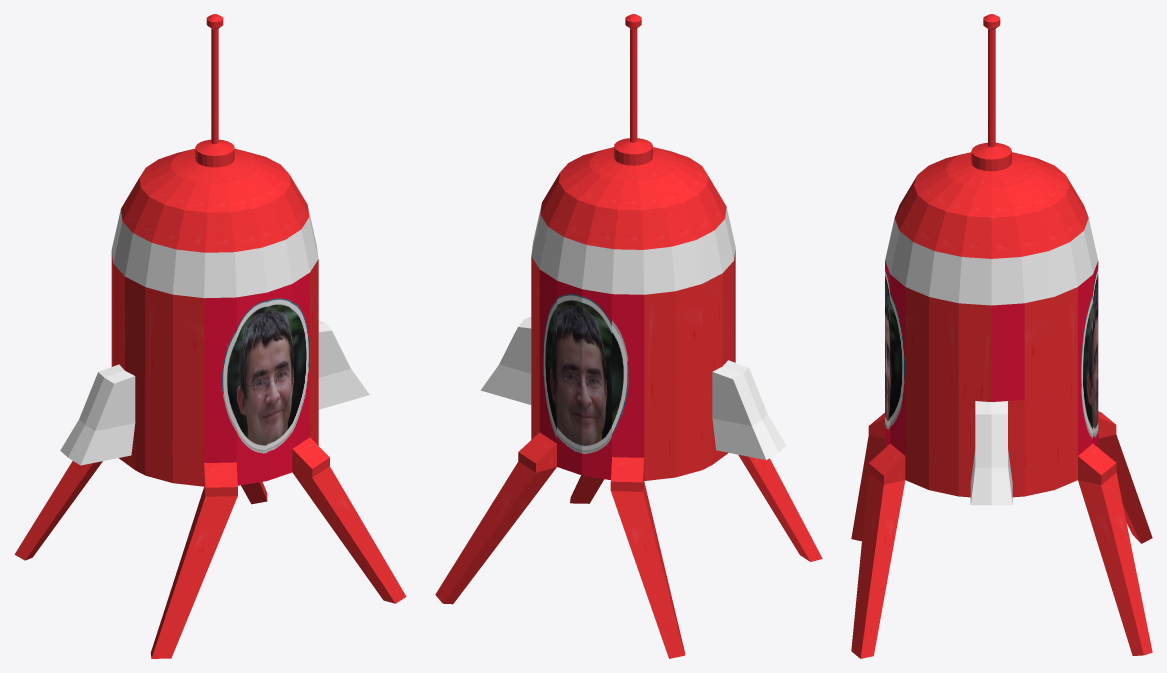
Rendered from Lander.obj.
3 renders of one model, left to right at view 1: azimuth 30°, elevation 25°; view 2: azimuth 150°, elevation 25°; view 3: azimuth 270°, elevation 25°, orthographic. The views are drawn at different scales.
Parts seen in each view (by area): view 1: Cylinder; view 2: Cylinder; view 3: Cylinder.
Part boxes in pixels (left/top/right/bottom): Cylinder: left=14, top=14, right=406, bottom=658; Cylinder: left=435, top=14, right=822, bottom=658; Cylinder: left=851, top=14, right=1152, bottom=658.
Size of the model in its own units: 3.27 by 6.04 by 2.83.
